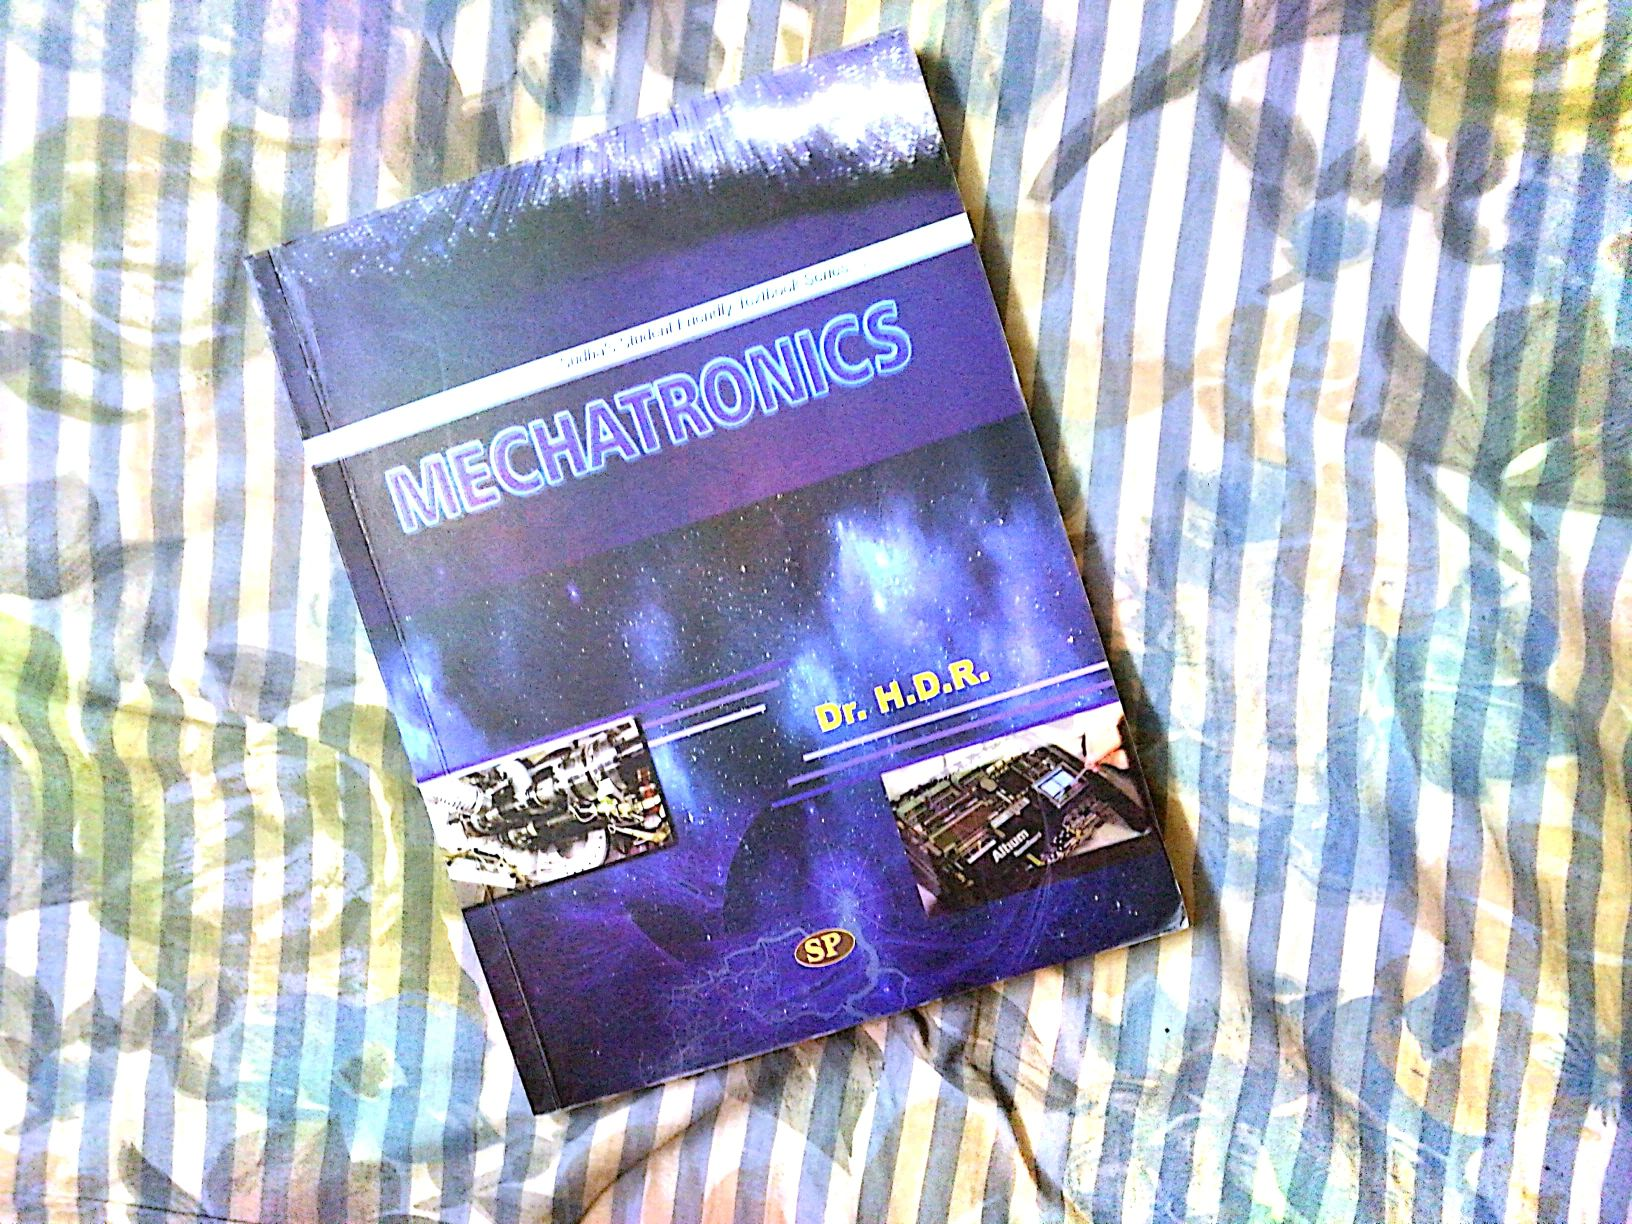mechatronics: (251, 77, 1213, 1054)
